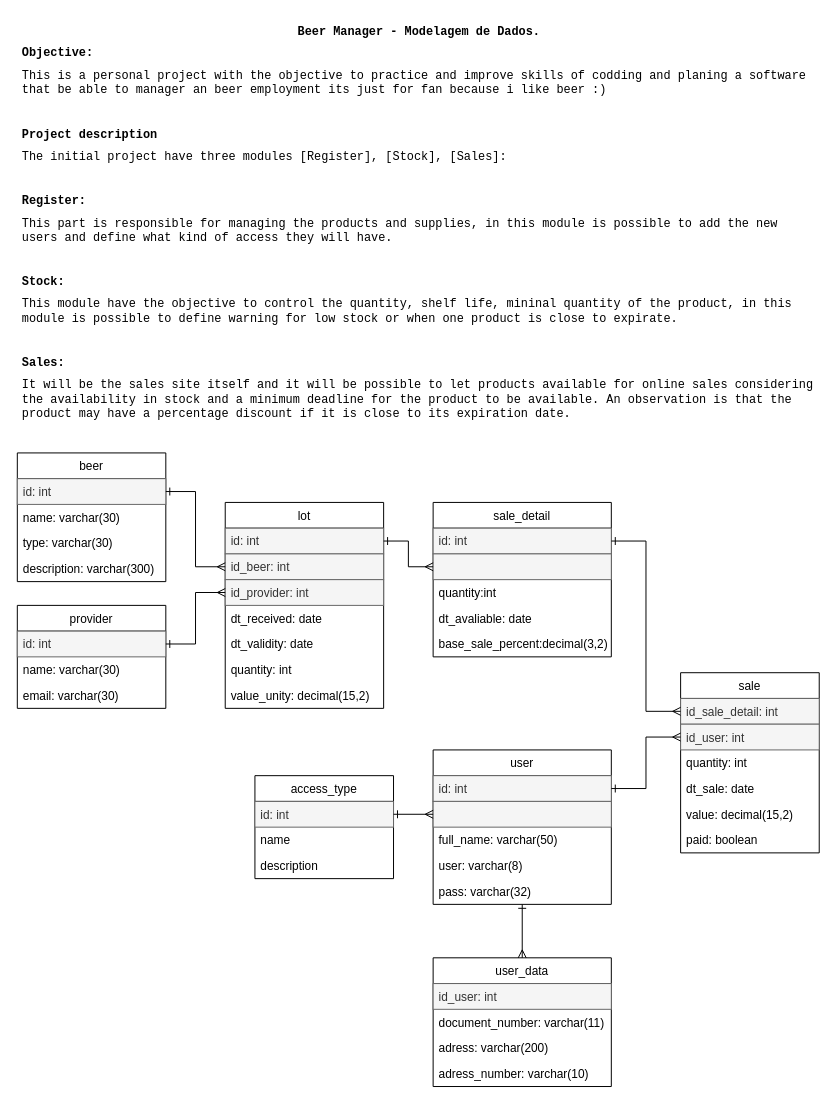
This 837x1106 diagram has some shape labels left out. The shapes that lost their labels are listed below. From the top down, each one's centre as x and y in pixels, then its label:
At point (521, 566): "id_lot".
At point (521, 813): "id_access_type: int".
